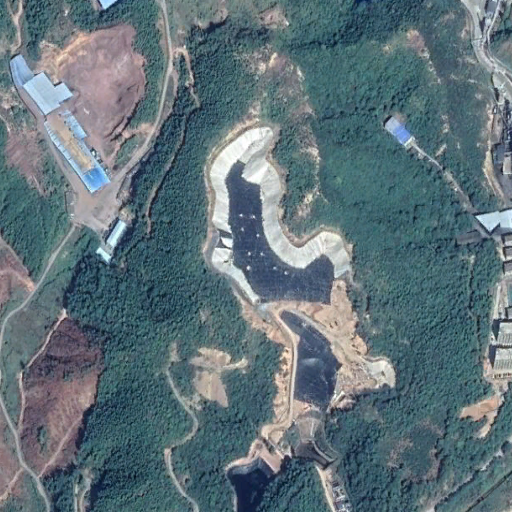lf: (203, 125, 352, 306), (275, 307, 344, 413)
